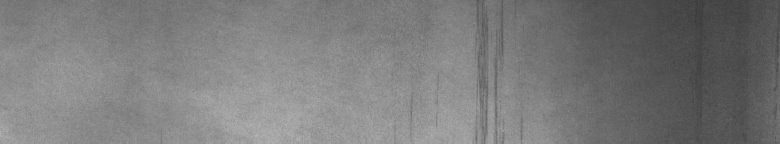ka: (475, 6, 523, 136)
